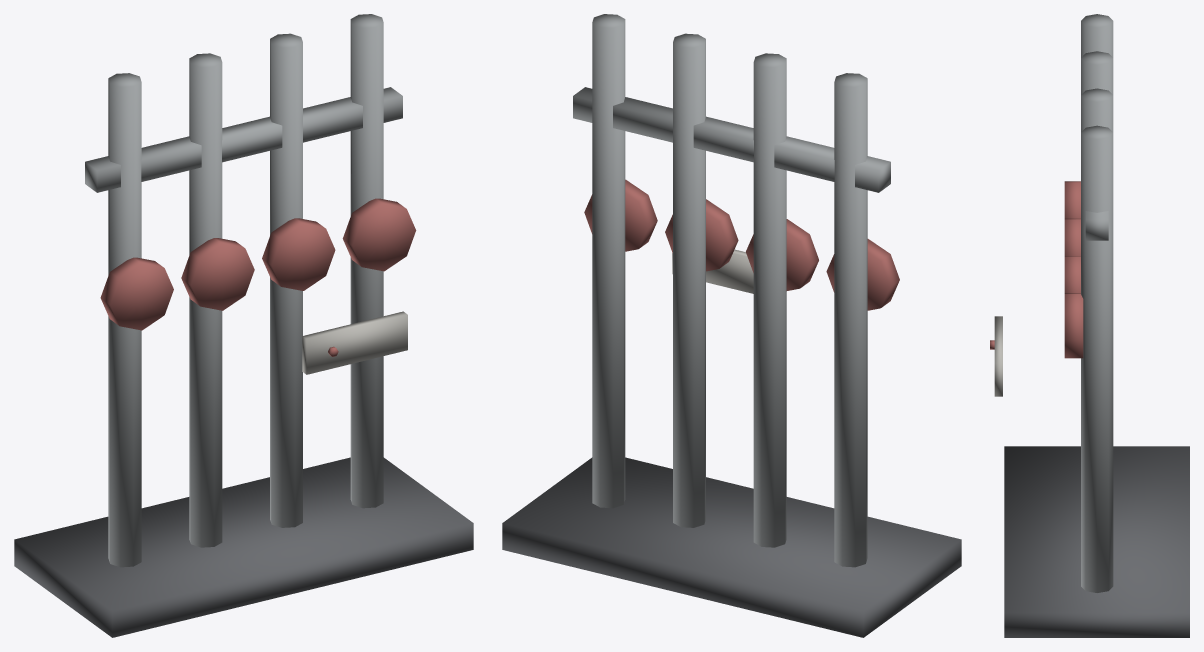
File: sprinkler_riser.glb
3 views of the same model, side by side, from view 1: azimuth 30°, elevation 25°; view 2: azimuth 150°, elevation 25°; view 3: azimuth 270°, elevation 25° (orthographic). The views are drawn at different scales.
Parts seen in each view (by area): view 1: world; view 2: world; view 3: world.
Boxes of the visible parts, x1,y1,x2,y2 form: world: [14, 14, 473, 637]; world: [502, 14, 961, 637]; world: [990, 14, 1189, 637].
Bounding box in the file's own units: 0.85 × 1.14 × 0.431.
